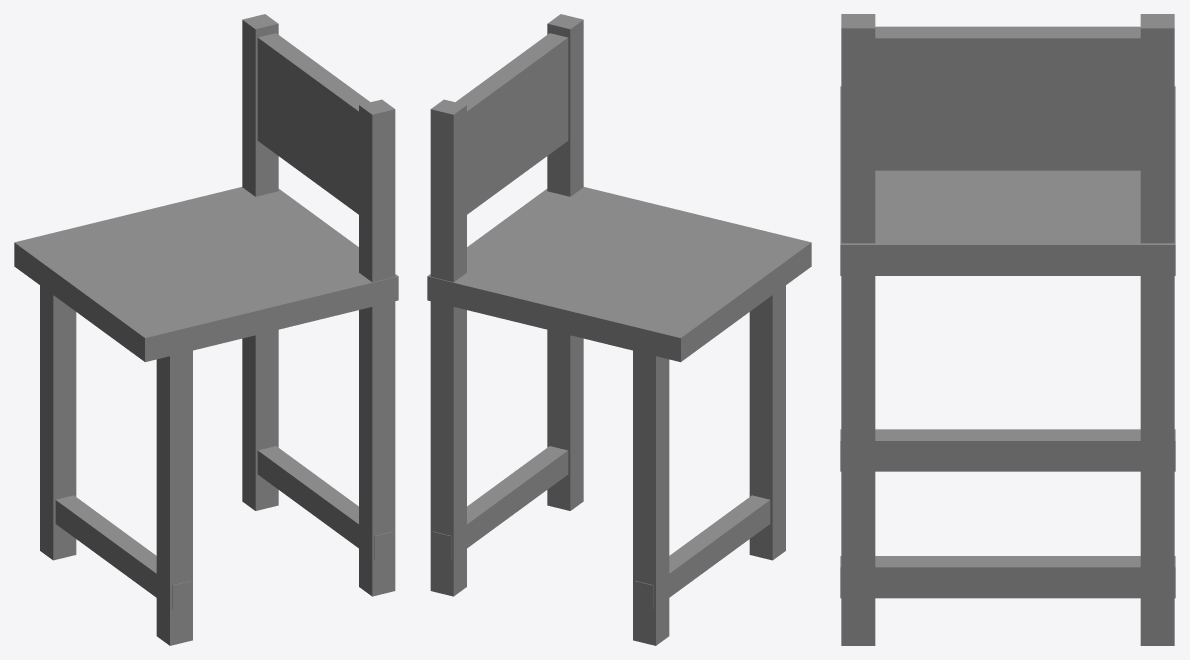
File: chair_tall.fbx
The picture shows the model from 3 angles, left to right: view 1: azimuth 30°, elevation 25°; view 2: azimuth 150°, elevation 25°; view 3: azimuth 270°, elevation 25°; orthographic projection. The views are drawn at different scales.
Parts seen in each view (by area): view 1: chair tall; view 2: chair tall; view 3: chair tall.
Part boxes in pixels (bbox=[...]): chair tall: bbox=[14, 14, 398, 645]; chair tall: bbox=[427, 14, 811, 645]; chair tall: bbox=[840, 14, 1175, 645].
Size of the model in its own units: 55.15 by 100 by 49.31.
